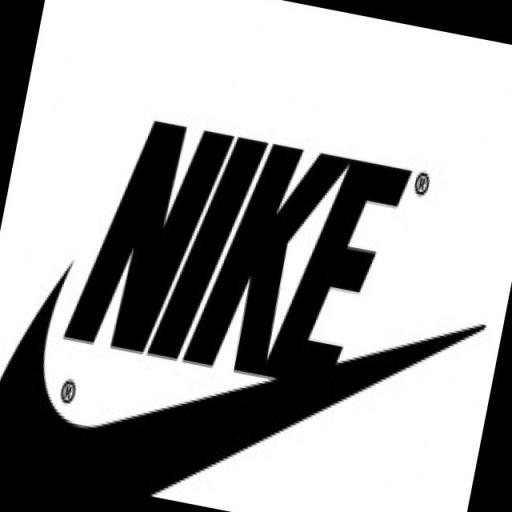Nike: (0, 263, 428, 512), (60, 106, 416, 404)
